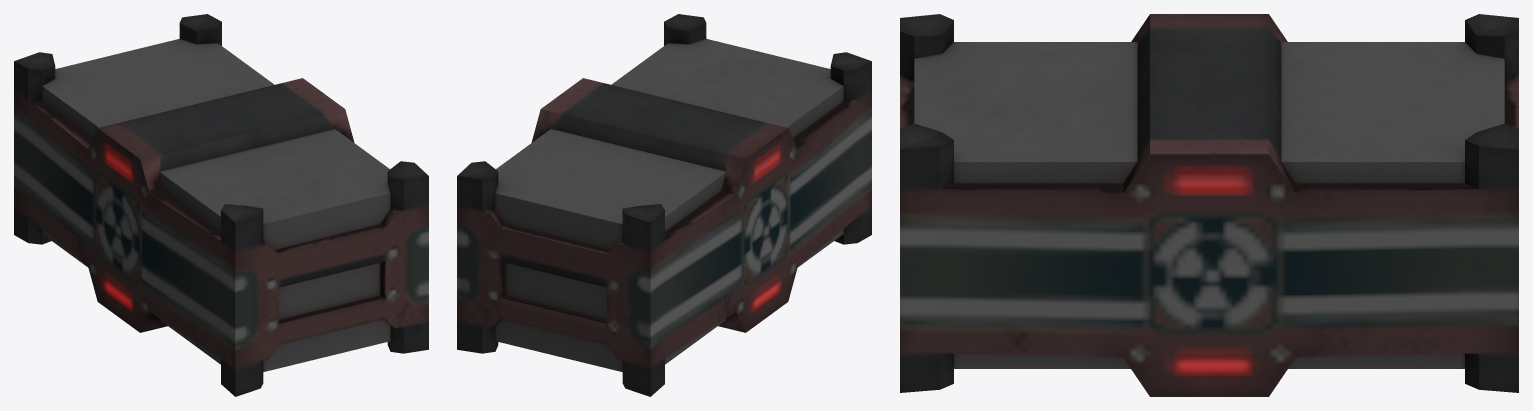
File: VR_Crate.fbx
3 views of the same model, side by side, from view 1: azimuth 30°, elevation 25°; view 2: azimuth 150°, elevation 25°; view 3: azimuth 270°, elevation 25° (orthographic). The views are drawn at different scales.
Visible parts, largest first — view 1: Cube.029; view 2: Cube.029; view 3: Cube.029.
Part boxes in pixels (<box>): Cube.029: <box>14,14,428,396</box>; Cube.029: <box>457,14,871,396</box>; Cube.029: <box>900,14,1518,396</box>.
Size of the model in its own units: 1.24 by 1.02 by 2.31.
